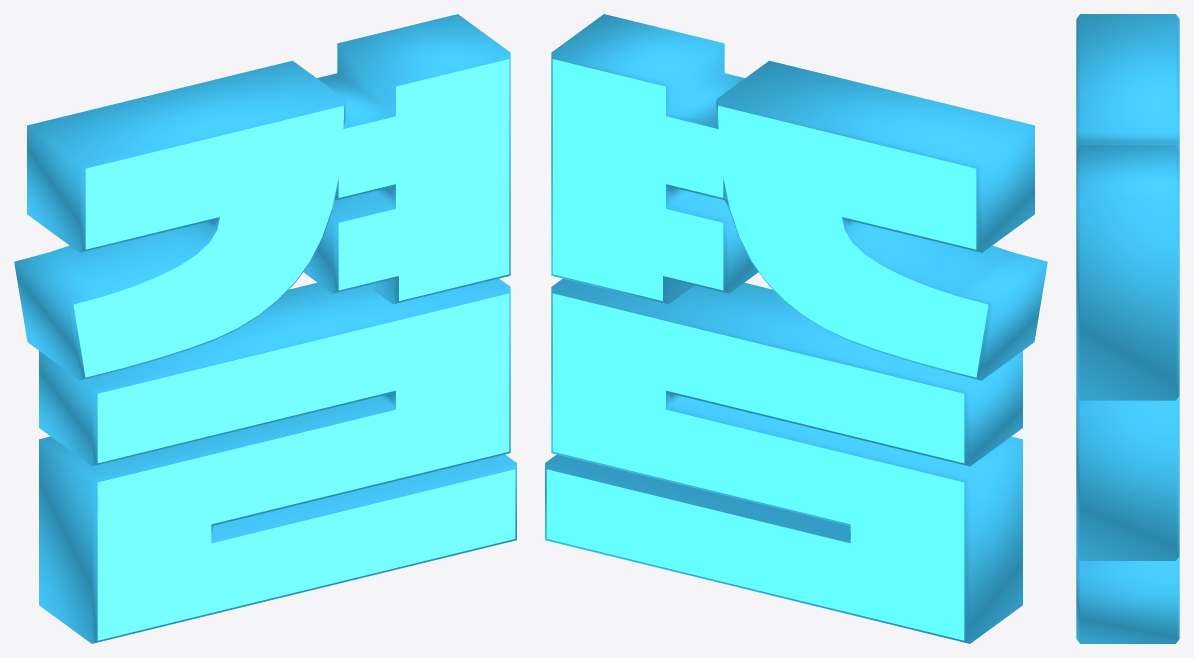
The model's file is u_acb0_b.glb.
3 views of the same model, side by side, from view 1: azimuth 30°, elevation 25°; view 2: azimuth 150°, elevation 25°; view 3: azimuth 270°, elevation 25° (orthographic). The views are drawn at different scales.
Visible parts, largest first — view 1: glyph; view 2: glyph; view 3: glyph.
Part boxes in pixels (<box>): glyph: <box>14,14,516,643</box>; glyph: <box>545,14,1047,643</box>; glyph: <box>1076,14,1179,643</box>.
Bounding box in the file's own units: 0.0737 × 0.0766 × 0.0162.
